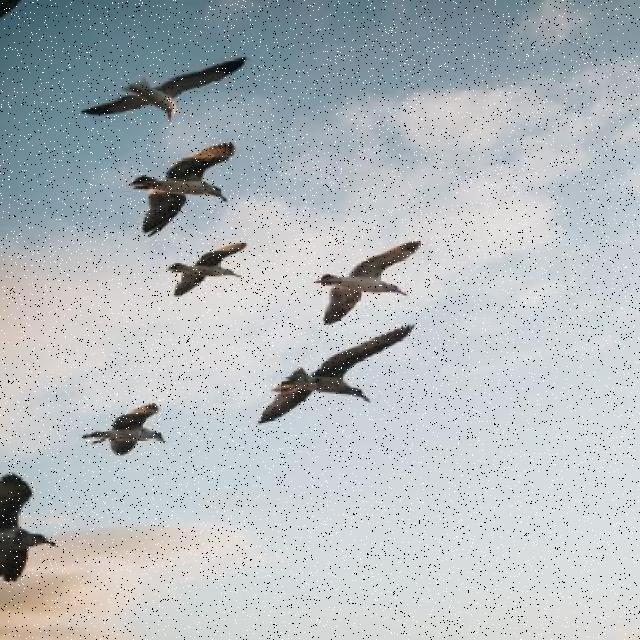bird: (256, 323, 416, 425), (80, 55, 248, 123), (130, 141, 238, 237), (314, 241, 420, 325), (0, 472, 58, 581), (84, 403, 168, 457), (168, 243, 248, 297)
